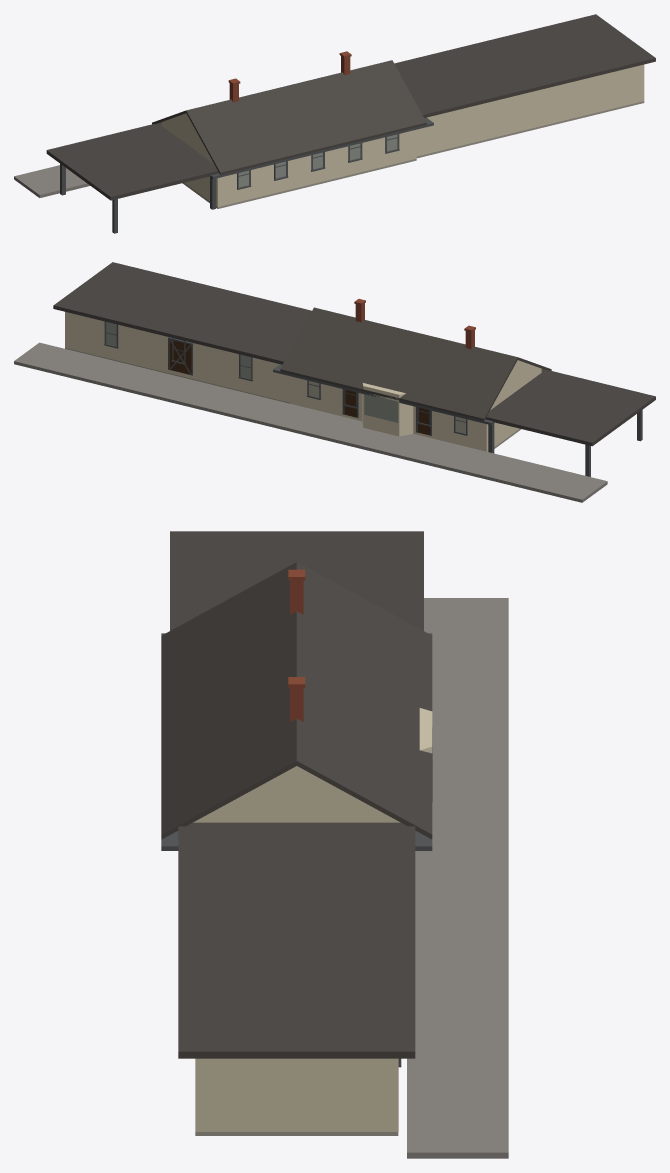
The model's file is Kiel_Depot.glb.
3 views of the same model, one above another, from view 1: azimuth 30°, elevation 25°; view 2: azimuth 150°, elevation 25°; view 3: azimuth 270°, elevation 25° (orthographic). The views are drawn at different scales.
Visible parts, largest first — view 1: roof, stucco, platform, trim, foundation, glass, sash, chimney; view 2: roof, platform, stucco, trim, glass, doors, sash, chimney, foundation; view 3: roof, platform, stucco, chimney.
Boxes of the visible parts, box(x1,y1,x2,y2) form: roof: box(46, 14, 655, 200); stucco: box(162, 64, 644, 206); platform: box(14, 165, 90, 197); trim: box(60, 117, 433, 233); foundation: box(182, 101, 644, 208); glass: box(239, 134, 397, 187); sash: box(237, 134, 399, 189); chimney: box(228, 51, 351, 102); roof: box(53, 262, 655, 446); platform: box(14, 342, 607, 502); stucco: box(65, 312, 541, 451); trim: box(168, 337, 642, 476); glass: box(106, 322, 465, 433); doors: box(169, 340, 430, 435); sash: box(104, 321, 467, 435); chimney: box(354, 299, 475, 349); foundation: box(65, 348, 521, 448); roof: box(161, 531, 432, 1058); platform: box(407, 598, 508, 1158); stucco: box(193, 708, 432, 1131); chimney: box(288, 569, 305, 721).
Bounding box in the file's own units: 1.63 × 0.2628 × 0.4309.
